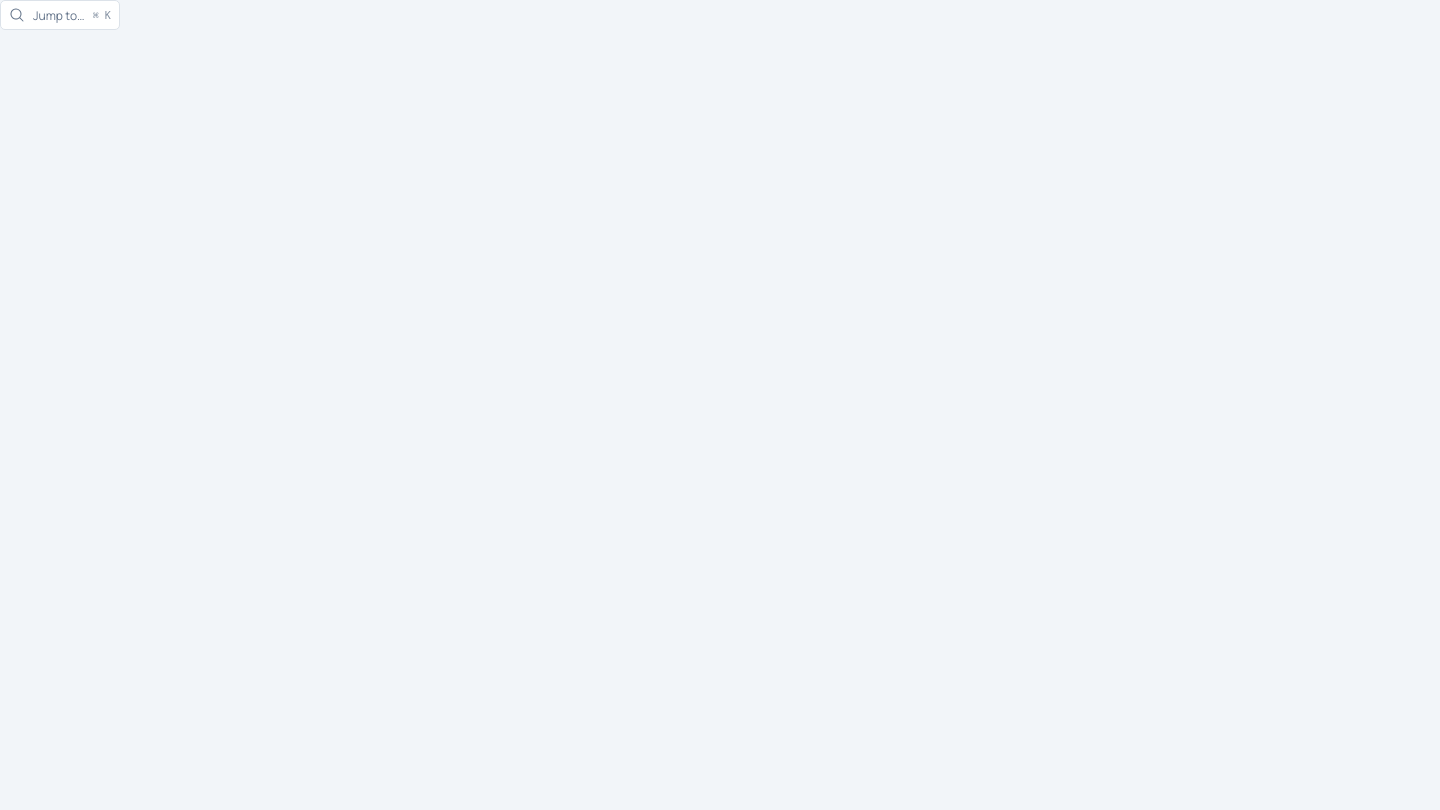
it: opens command navigation with keyboard and pins an environment without leaving the page
The image size is (1440, 810).
Press k
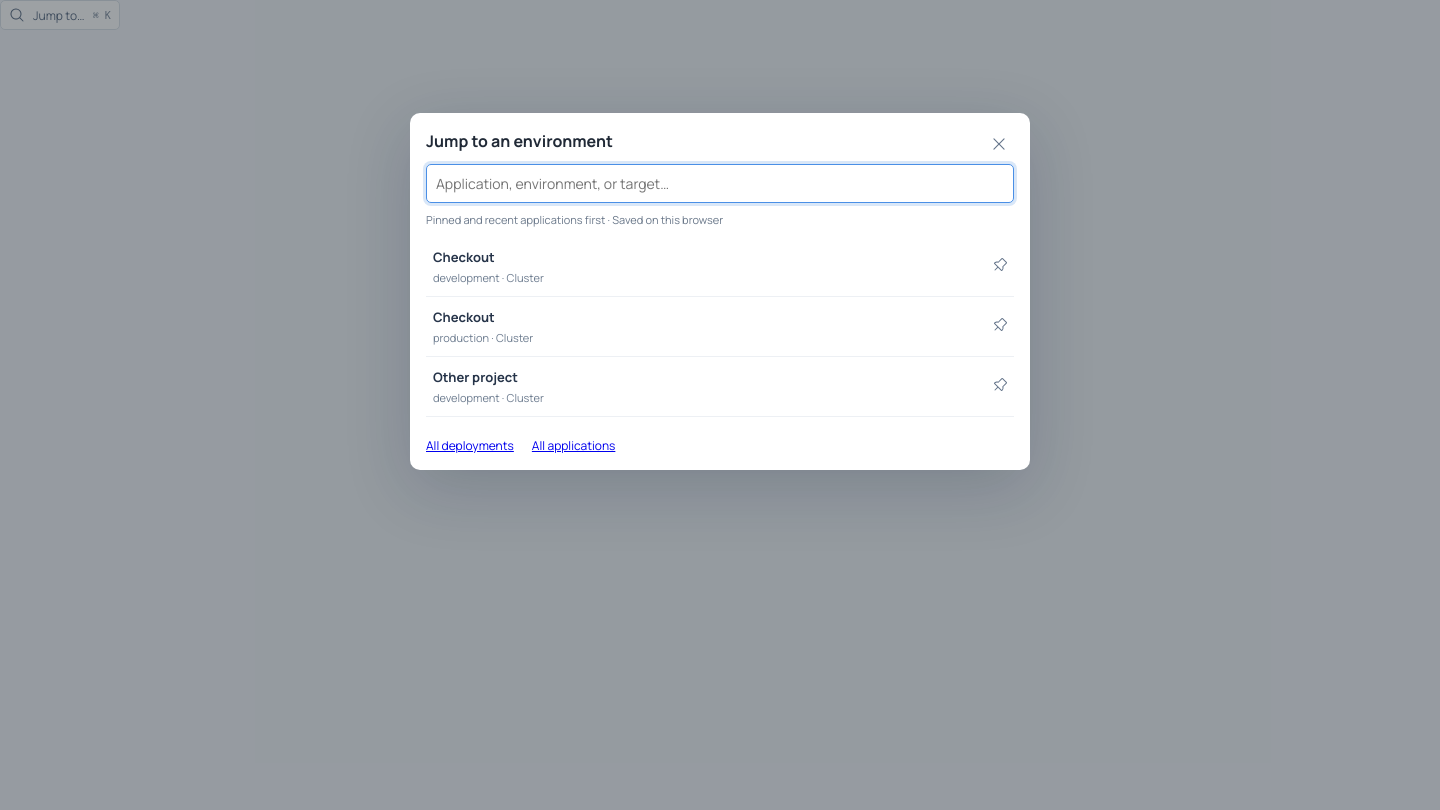
expect the dialog "Jump to an environment" is shown: met, box [410,113,1030,470]
Click the button named "Pin Checkout dev development" at (1000, 267), box [986,250,1014,284]
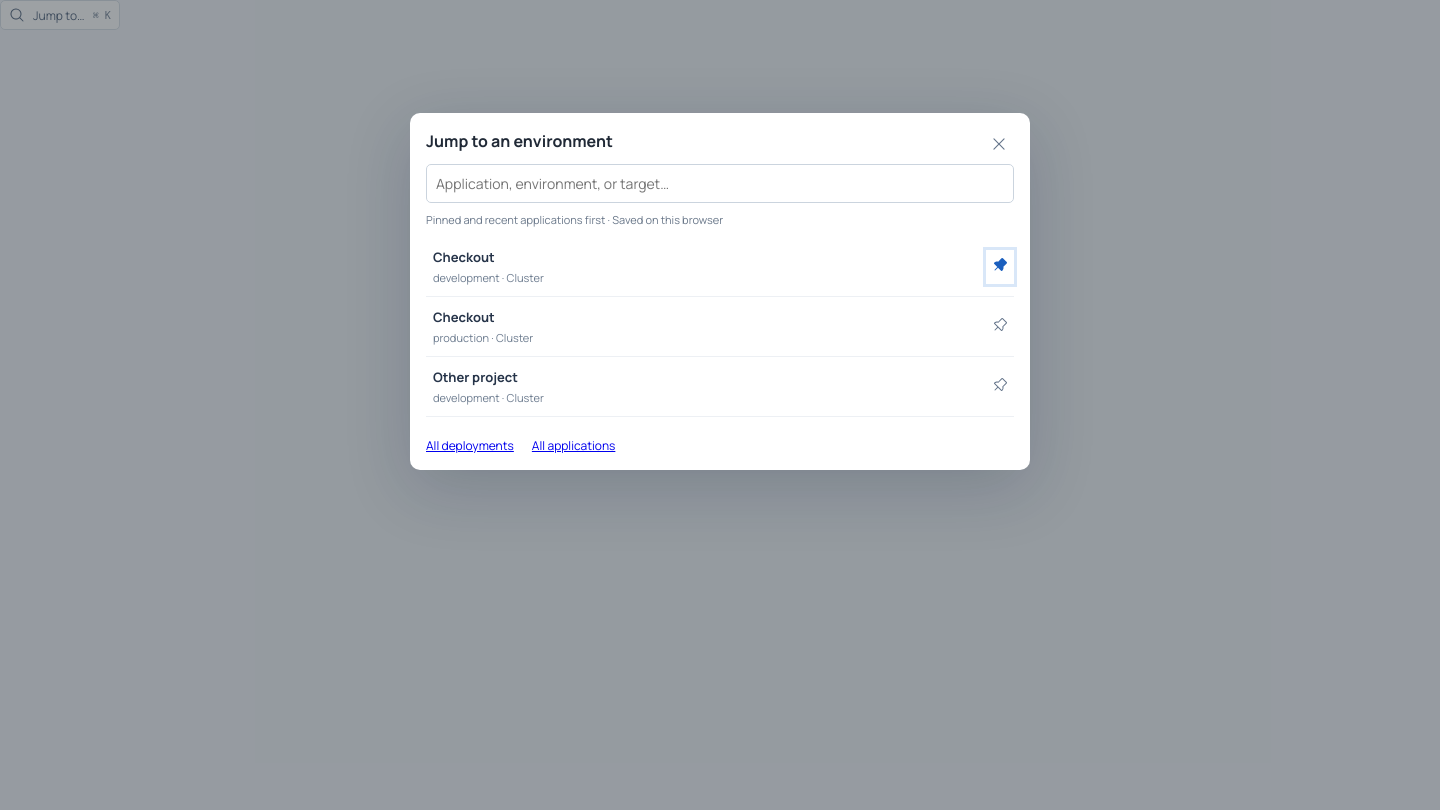
Click the link with aria-label "Open Checkout development on Cluster" at (488, 267), box [433,248,544,285]
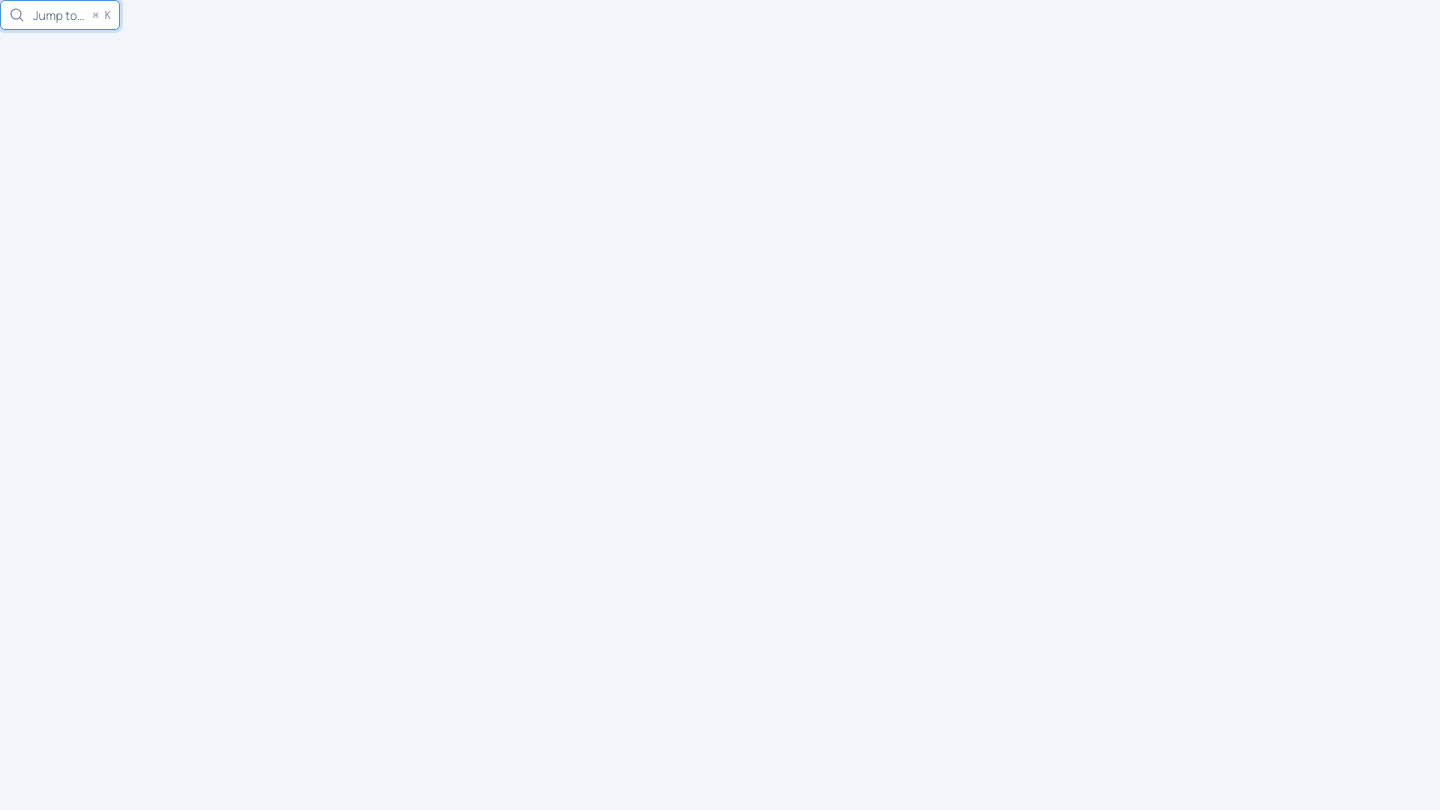
expect the dialog is gone: met
